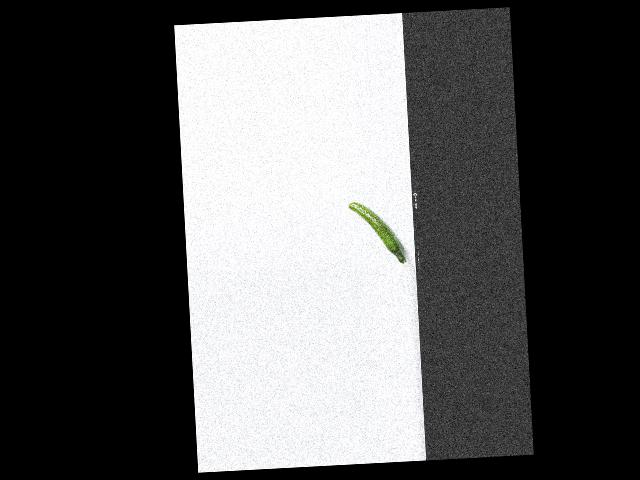cucumber: (348, 200, 406, 267)
